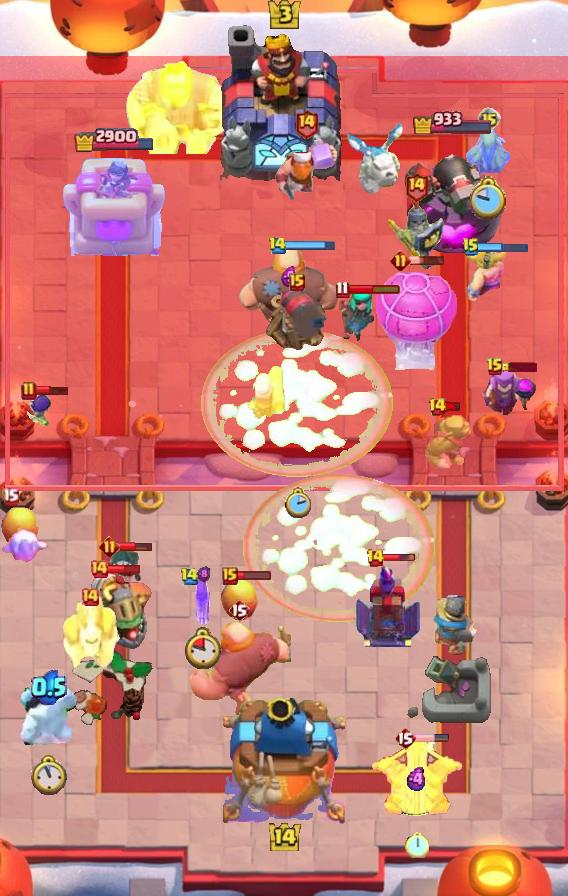balloon: (187, 620, 291, 720), (236, 242, 342, 332)
cannon-cart: (373, 265, 461, 373)
electro-spirit: (31, 669, 67, 705), (405, 768, 429, 793), (281, 266, 297, 287), (198, 566, 210, 582)
elixir: (470, 176, 508, 220), (185, 627, 223, 669), (31, 755, 67, 796), (285, 487, 312, 518), (405, 830, 429, 857)
elixir-golem-small: (60, 596, 120, 674)
emote: (477, 242, 529, 255), (348, 283, 401, 295), (284, 241, 336, 252), (409, 254, 446, 266), (117, 540, 153, 552), (106, 563, 142, 575), (34, 385, 70, 396), (236, 570, 272, 581), (501, 362, 537, 372), (414, 733, 450, 743), (382, 553, 416, 563), (446, 400, 463, 412)
firecracker: (431, 596, 479, 657)
flying-machine: (421, 412, 477, 470)
giant-skeleton: (124, 60, 234, 154)
goblin: (193, 577, 213, 627), (27, 393, 53, 429)
goblin-giant: (463, 245, 507, 301)
hog: (0, 506, 40, 550), (220, 578, 260, 622)
ice-spirit-evolution-symbol: (355, 563, 423, 649)
king-tower: (219, 21, 349, 181), (223, 698, 345, 826)
lava-pup: (368, 737, 466, 819)
mighty-miner: (274, 137, 338, 201)
mini-pekka: (344, 121, 408, 197)
mirror: (0, 528, 50, 566)
night-witch: (71, 572, 153, 650)
phoenix-big: (200, 327, 394, 478), (242, 472, 436, 623)
princess: (387, 193, 445, 273)
queen-tower: (62, 156, 166, 256)
rage: (17, 684, 81, 752)
rascal-girl: (479, 366, 539, 420)
royal-giant-evolution: (263, 283, 331, 353)
selected: (72, 126, 155, 152), (412, 108, 494, 134)
tesla: (96, 546, 144, 602)
text: (293, 109, 318, 140), (403, 170, 428, 201), (477, 107, 501, 131), (228, 598, 250, 622), (394, 726, 416, 750), (99, 535, 121, 557), (389, 250, 410, 271), (89, 559, 109, 579), (80, 587, 100, 607), (429, 397, 448, 417), (367, 548, 386, 568), (269, 237, 288, 256), (462, 237, 480, 257), (486, 357, 504, 377), (180, 567, 200, 585), (2, 486, 19, 505), (21, 381, 37, 401), (289, 273, 305, 291), (222, 567, 238, 585), (335, 281, 350, 300)
tombstone: (245, 363, 287, 421)
tower-bar: (403, 138, 503, 256)
witch: (332, 290, 378, 344)
zap: (464, 125, 514, 173)
